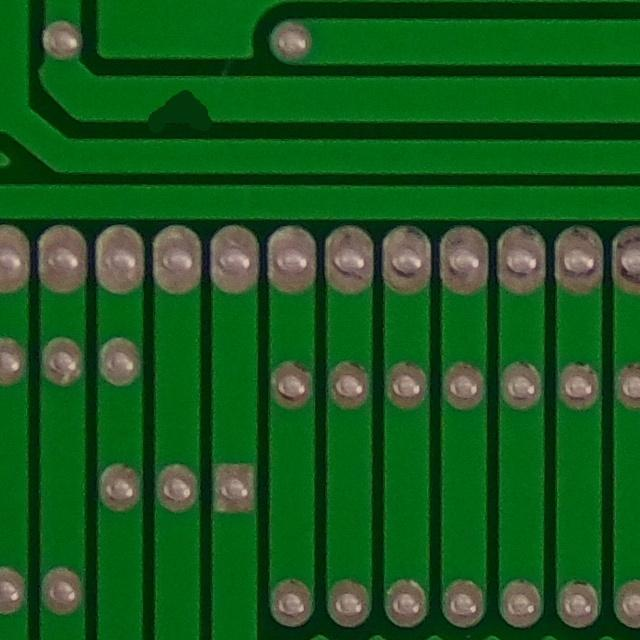mouse_bite: (128, 71, 219, 142)
